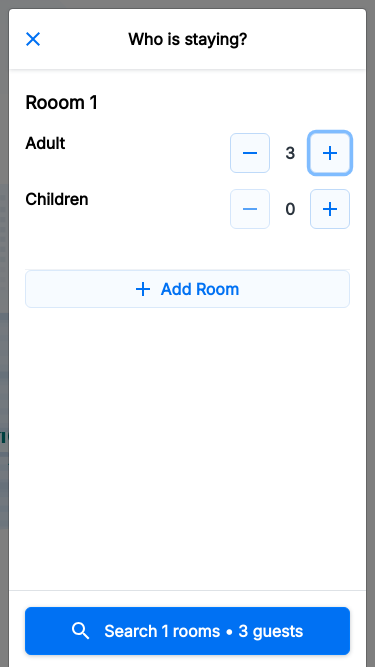
Test: Guest Selector Add Room Functions › should decrease the guest count
The width and height of the screenshot is (375, 667).
Click the 1st button with test id "minus-btn". click: (250, 153)
box: left=230, top=133, right=270, bottom=173
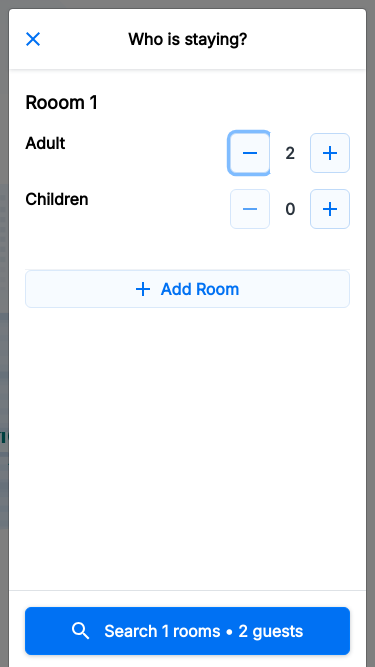
Check: the field with test id "spinner-value" in the row of "Adult" holds "2", box left=270, top=133, right=310, bottom=173
